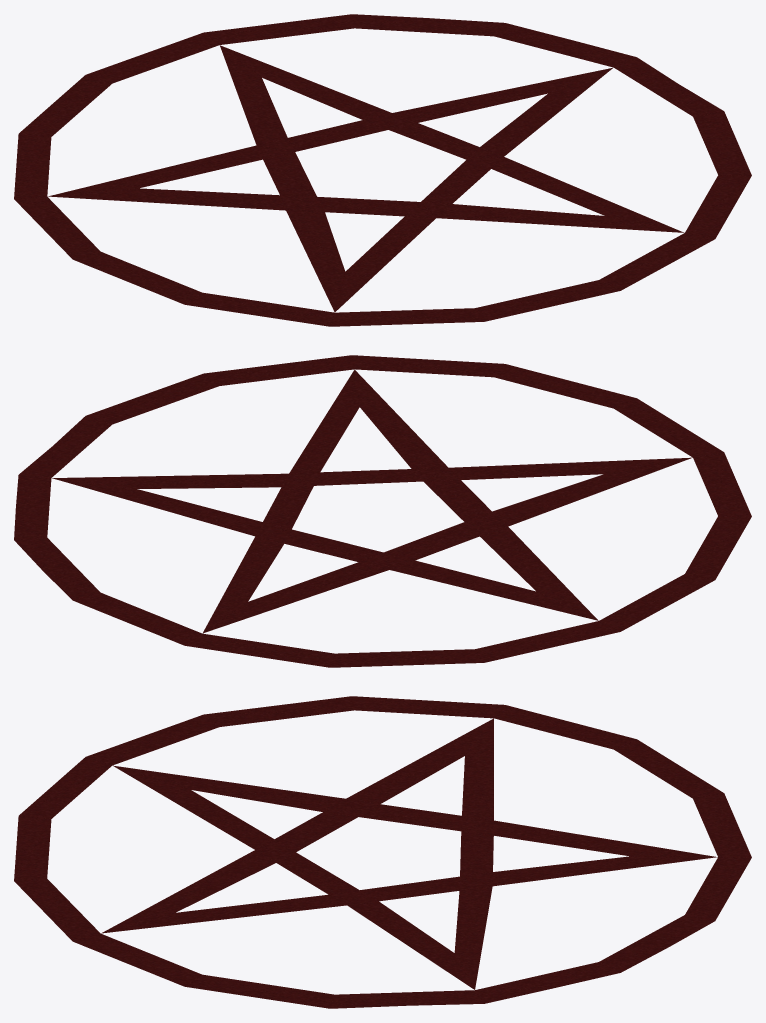
Rendered from KM_VOB_PENTAGRAM_01.glb.
The picture shows the model from 3 angles, top to bottom: view 1: azimuth 30°, elevation 25°; view 2: azimuth 150°, elevation 25°; view 3: azimuth 270°, elevation 25°; orthographic projection.
Visible parts, largest first — view 1: Mesh; view 2: Mesh; view 3: Mesh.
Part boxes in pixels (x1=…): Mesh: x1=14, y1=14, x2=751, y2=326; Mesh: x1=14, y1=355, x2=751, y2=667; Mesh: x1=14, y1=696, x2=751, y2=1008.
Size of the model in its own units: 2.33 by 0 by 2.32.
1 material, 1 textured.
